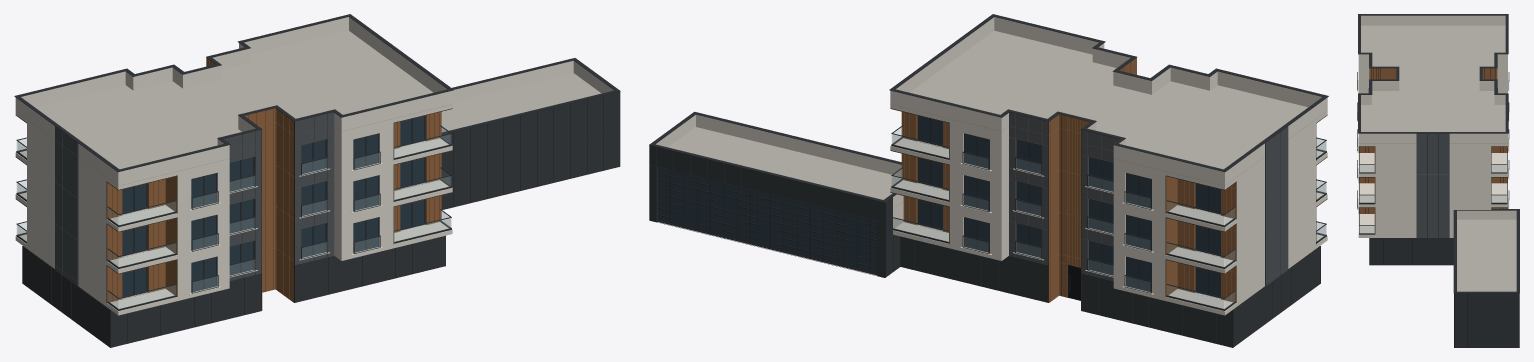
File: model_tasarim.glb
3 views of the same model, side by side, from view 1: azimuth 30°, elevation 25°; view 2: azimuth 150°, elevation 25°; view 3: azimuth 270°, elevation 25° (orthographic). The views are drawn at different scales.
Parts seen in each view (by area): view 1: konut, cephe, dukkan; view 2: konut, cephe, dukkan; view 3: konut, cephe, dukkan.
Boxes of the visible parts, x1,y1,x2,y2 form: konut: [15, 17, 452, 315]; cephe: [14, 14, 620, 347]; dukkan: [441, 60, 613, 132]; konut: [890, 17, 1327, 315]; cephe: [649, 14, 1328, 347]; dukkan: [656, 114, 903, 275]; konut: [1357, 15, 1509, 237]; cephe: [1358, 14, 1519, 347]; dukkan: [1457, 210, 1516, 291].
Size of what is drawn, in the model's own units: 42.61 by 13.03 by 14.53.
